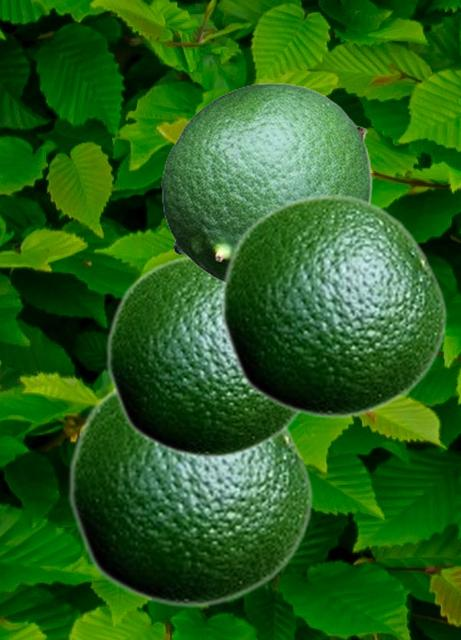calamansi: (67, 386, 313, 608), (219, 193, 447, 419), (161, 82, 371, 283), (105, 254, 301, 459)
